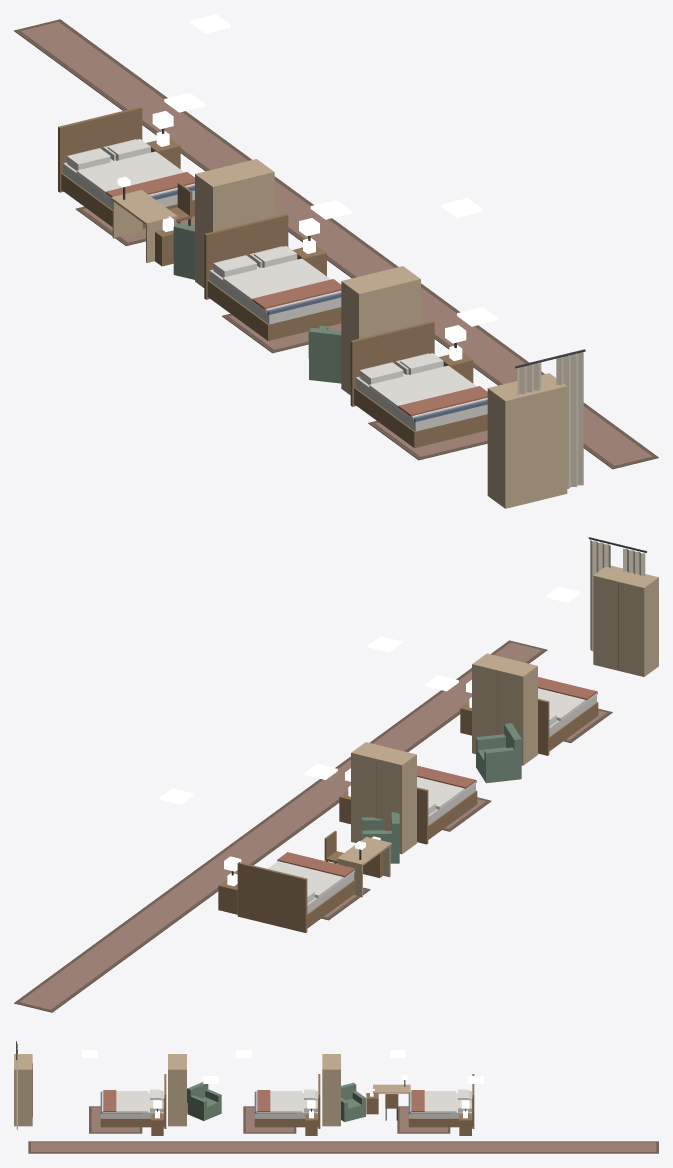
Rendered from fine-s2.glb.
3 views of the same model, one above another, from view 1: azimuth 30°, elevation 25°; view 2: azimuth 150°, elevation 25°; view 3: azimuth 270°, elevation 25° (orthographic). The views are drawn at different scales.
Parts seen in each view (by area): view 1: soft-s2, dresser.005, bed-frame.005, bed-frame.004, dresser.004, dresser.003, bed-frame.003, writing-desk.001, lounge-chair.003, lounge-chair.002, side-table.001; view 2: soft-s2, dresser.005, dresser.003, dresser.004, bed-frame.003, lounge-chair.003, bed-frame.004, bed-frame.005, writing-desk.001, lounge-chair.002, nightstand.003; view 3: soft-s2, dresser.003, dresser.004, dresser.005, bed-frame.004, bed-frame.005, bed-frame.003, lounge-chair.003, lounge-chair.002, writing-desk.001, nightstand.003, nightstand.004 (+3 smaller).
Part boxes in pixels (box(x1,y1,x2,y2)): soft-s2: box(14, 19, 658, 488); dresser.005: box(487, 373, 567, 508); bed-frame.005: box(350, 321, 487, 447); bed-frame.004: box(204, 214, 341, 340); dresser.004: box(341, 266, 420, 395); dresser.003: box(195, 159, 274, 287); bed-frame.003: box(58, 107, 194, 228); writing-desk.001: box(111, 176, 177, 262); lounge-chair.003: box(308, 325, 341, 383); lounge-chair.002: box(173, 223, 194, 279); side-table.001: box(155, 216, 173, 266); soft-s2: box(14, 537, 646, 1012); dresser.005: box(593, 565, 658, 676); dresser.003: box(351, 742, 416, 854); dresser.004: box(472, 653, 537, 765); bed-frame.003: box(237, 862, 355, 932); lounge-chair.003: box(476, 723, 521, 783); bed-frame.004: box(417, 780, 477, 844); bed-frame.005: box(538, 691, 598, 755); writing-desk.001: box(337, 837, 391, 897); lounge-chair.002: box(362, 812, 399, 863); nightstand.003: box(218, 873, 237, 914); soft-s2: box(16, 1041, 658, 1153); dresser.003: box(322, 1054, 340, 1126); dresser.004: box(168, 1054, 186, 1126); dresser.005: box(14, 1054, 32, 1126); bed-frame.004: box(254, 1074, 320, 1128); bed-frame.005: box(100, 1074, 166, 1128); bed-frame.003: box(408, 1074, 474, 1128); lounge-chair.003: box(187, 1082, 221, 1120); lounge-chair.002: box(341, 1082, 365, 1121); writing-desk.001: box(373, 1075, 410, 1098); nightstand.003: box(459, 1110, 471, 1135); nightstand.004: box(305, 1110, 317, 1135).
Bounding box in the file's own units: 3.6 × 2.56 × 20.62.
